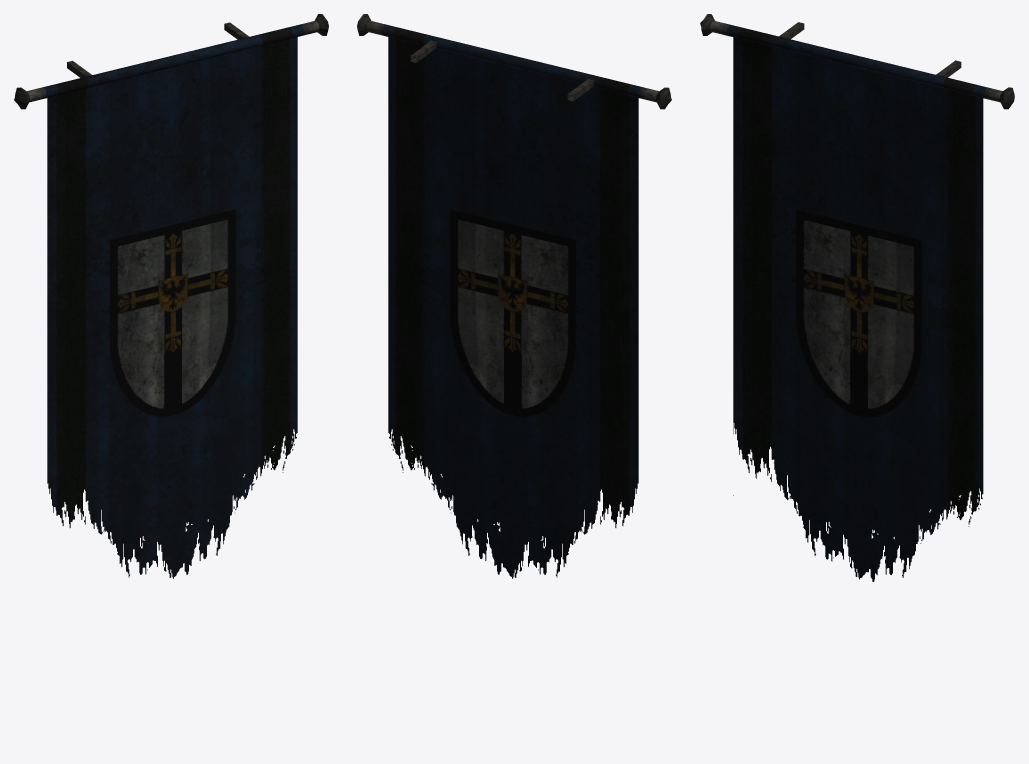
Rendered from banner_long03_broken.dae.
The picture shows the model from 3 angles, left to right: view 1: azimuth 30°, elevation 25°; view 2: azimuth 150°, elevation 25°; view 3: azimuth 330°, elevation 25°; orthographic projection.
Parts seen in each view (by area): view 1: polySurface19, polySurface24, polySurface20; view 2: polySurface19, polySurface24, polySurface20; view 3: polySurface19, polySurface24, polySurface20.
Boxes of the visible parts, x1,y1,x2,y2 form: polySurface19: (47, 37, 297, 578); polySurface24: (47, 40, 297, 577); polySurface20: (14, 14, 328, 109); polySurface19: (388, 37, 638, 578); polySurface24: (388, 38, 638, 577); polySurface20: (357, 14, 671, 109); polySurface19: (733, 37, 983, 581); polySurface24: (733, 38, 983, 578); polySurface20: (700, 14, 1014, 109).
Bounding box in the file's own units: 2 × 4.07 × 0.3168.
